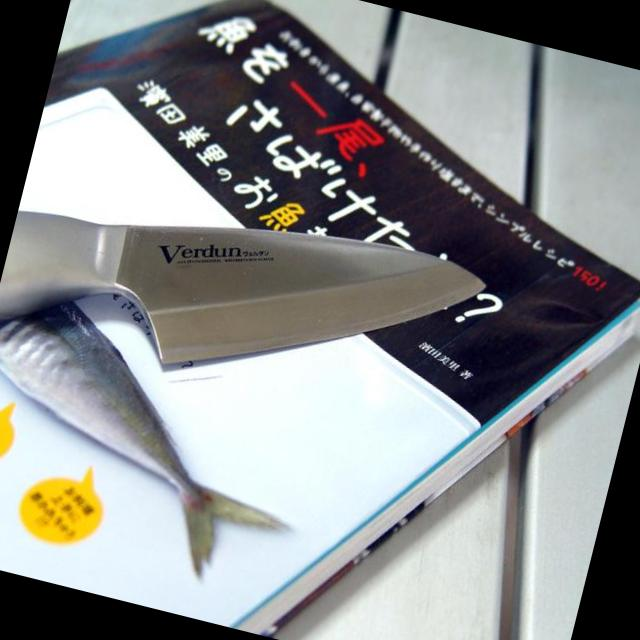Knife: (0, 212, 484, 364)
